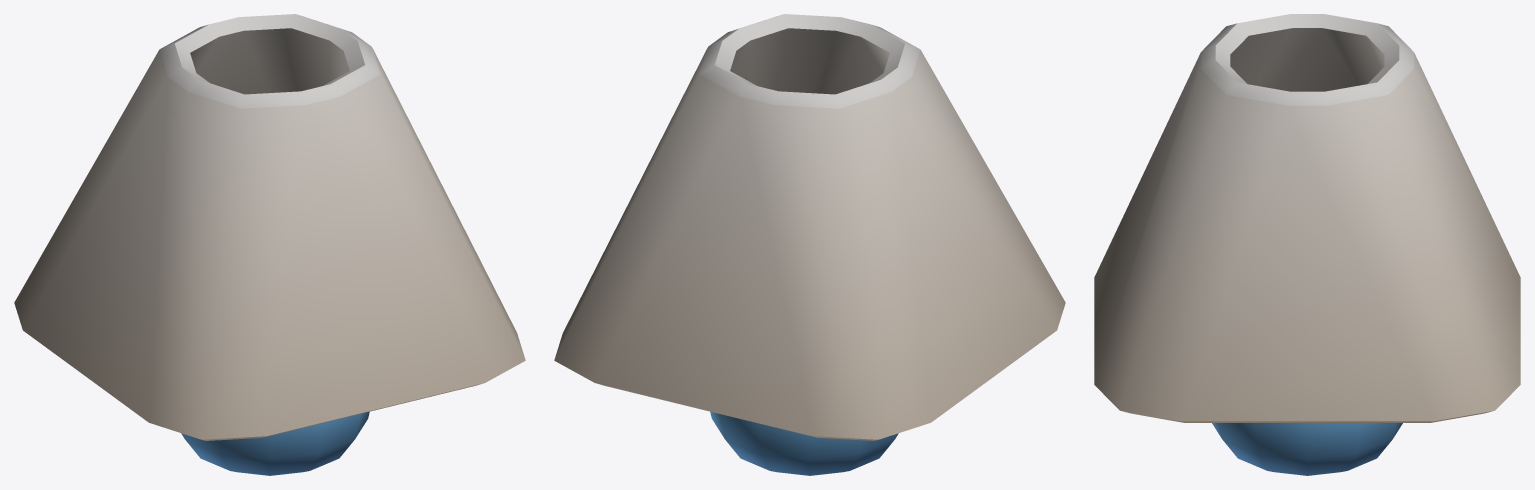
Rendered from lamp-table.glb.
3 views of the same model, side by side, from view 1: azimuth 30°, elevation 25°; view 2: azimuth 150°, elevation 25°; view 3: azimuth 270°, elevation 25° (orthographic).
Visible parts, largest first — view 1: lamp_table; view 2: lamp_table; view 3: lamp_table.
Part boxes in pixels (left/top/right/bottom): lamp_table: left=14, top=14, right=525, bottom=475; lamp_table: left=554, top=14, right=1065, bottom=475; lamp_table: left=1094, top=14, right=1520, bottom=475.
Size of the model in its own units: 1 by 1.02 by 1.
